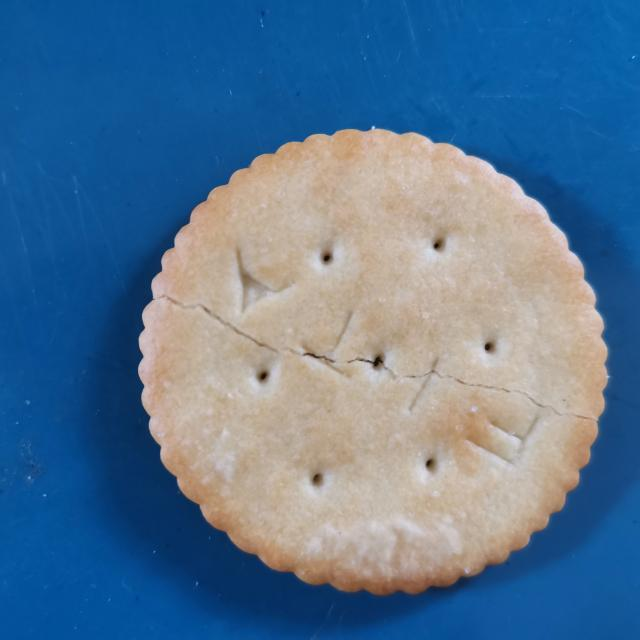Fracture: (134, 274, 603, 444)
